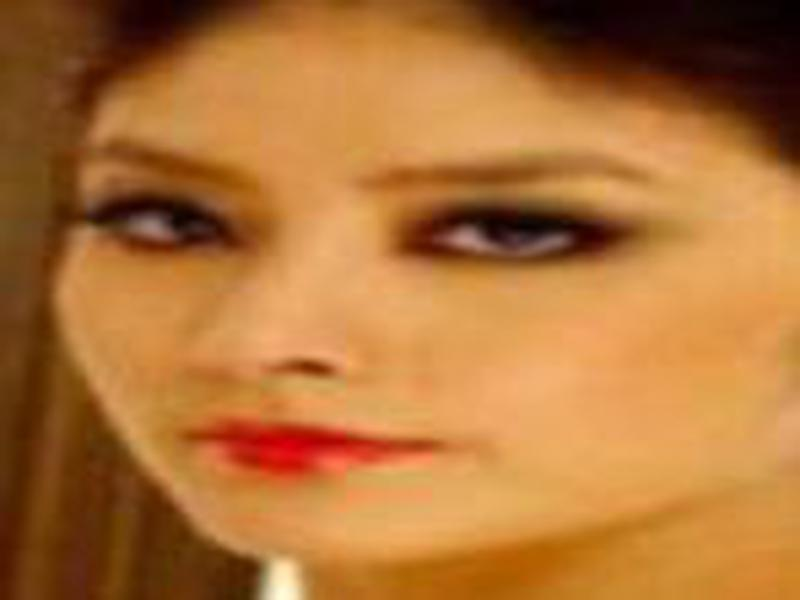without_mask: (46, 33, 800, 565)
